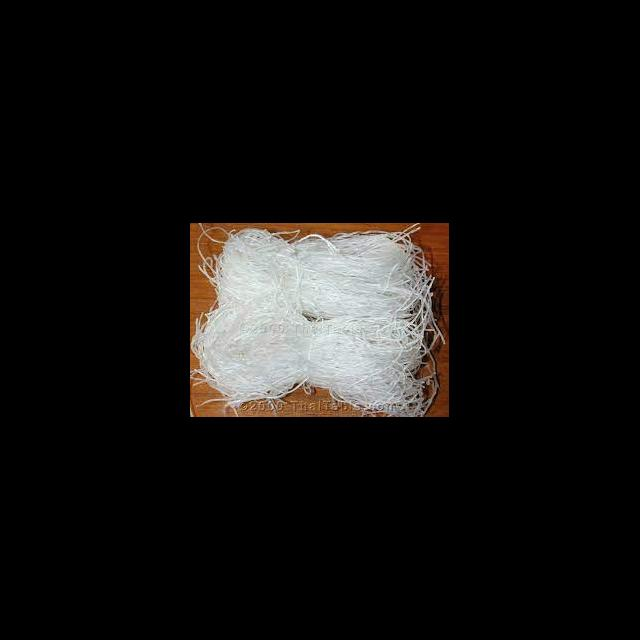noodles: (210, 308, 426, 404), (225, 233, 412, 319)
